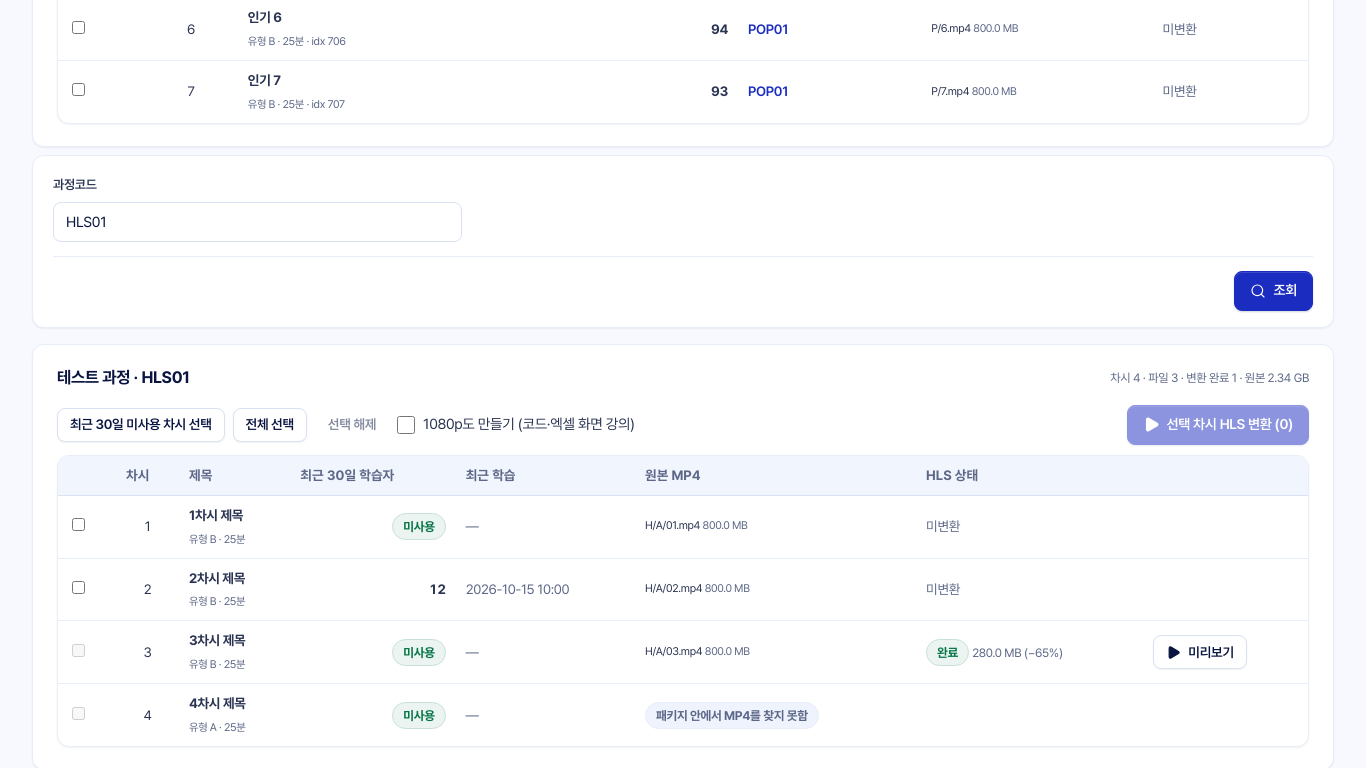
Test: HLS 변환 page › shows lessons with 30-day use, selects idle ones and queues only those
(page scrolled)
Expected: the heading "테스트 과정 · HLS01" is shown, [57,367,190,389]
Expected: the text "미사용" is shown 3 times, [392,513,446,540]; [392,639,446,666]; [392,702,446,729]
What coordinates should you click on to do the following:
click the button "최근 30일 미사용 차시 선택"
I would click on:
 (141, 425)
Its box is [57,408,224,442].
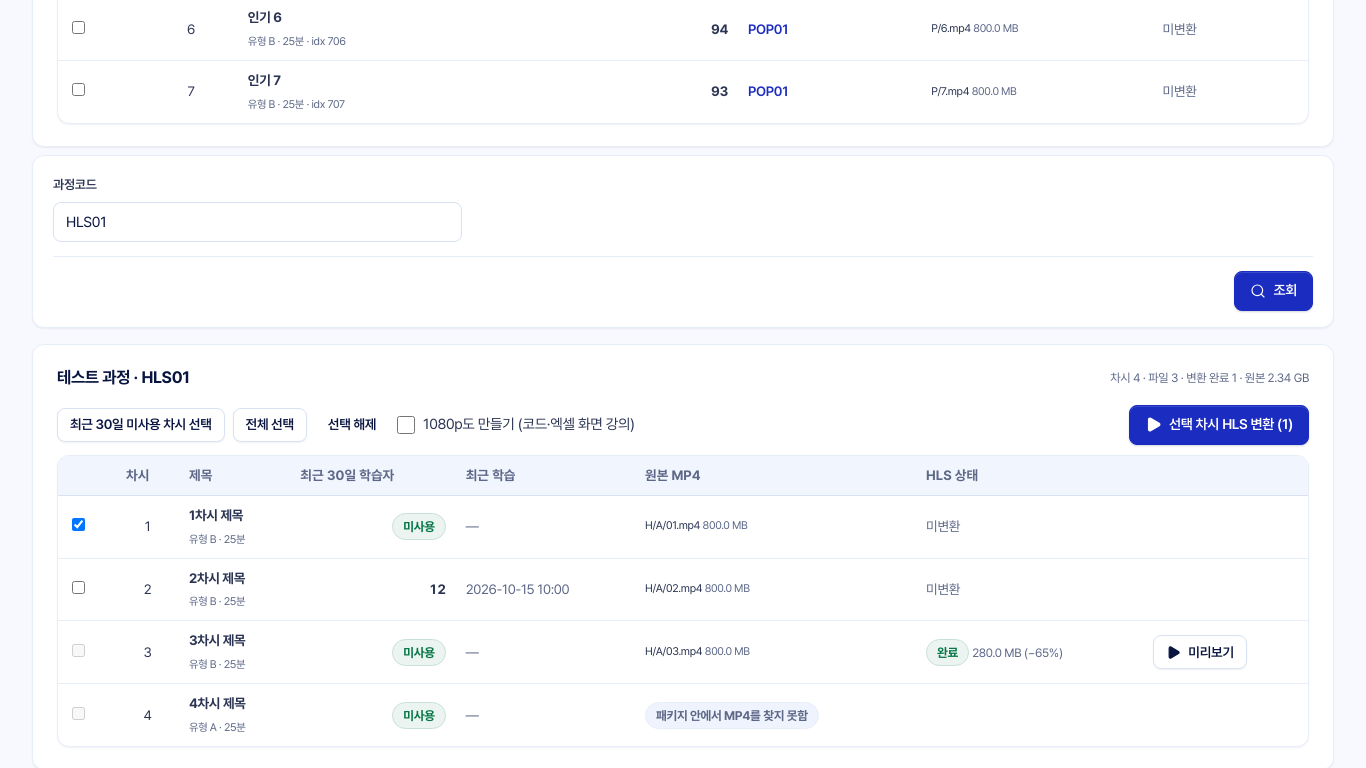
Expected: the checkbox named "2차시 선택" is not checked, [72,581,85,594]
Result: the checkbox named "1차시 선택" is checked at [72,518,85,531]
What coordinates should you click on to do the following:
click the button "선택 차시 HLS 변환 (1)"
I would click on:
 (1219, 425)
Its box is [1129,405,1309,445].
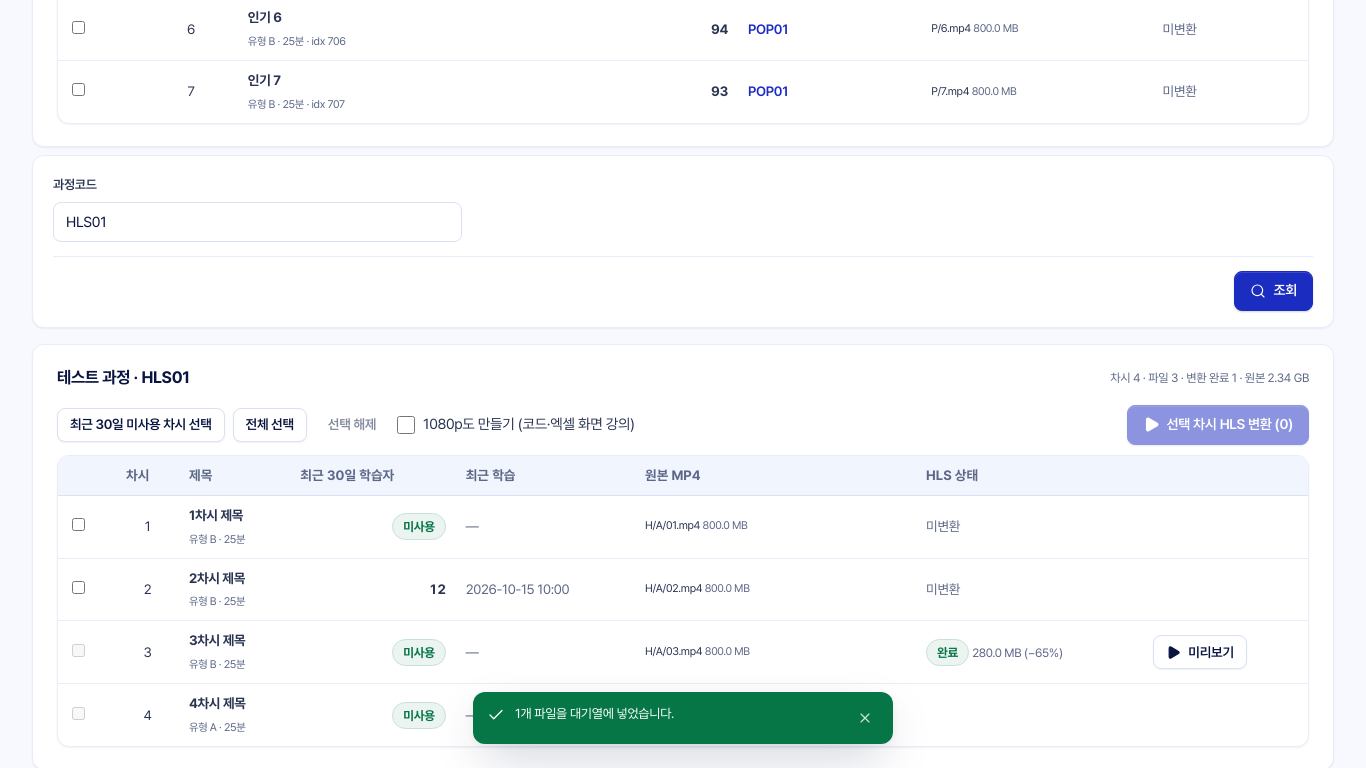
Result: the text "1개 파일을 대기열에 넣었습니다." is shown at [515,706,674,721]
